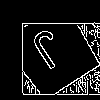J: (27, 26, 75, 80)
